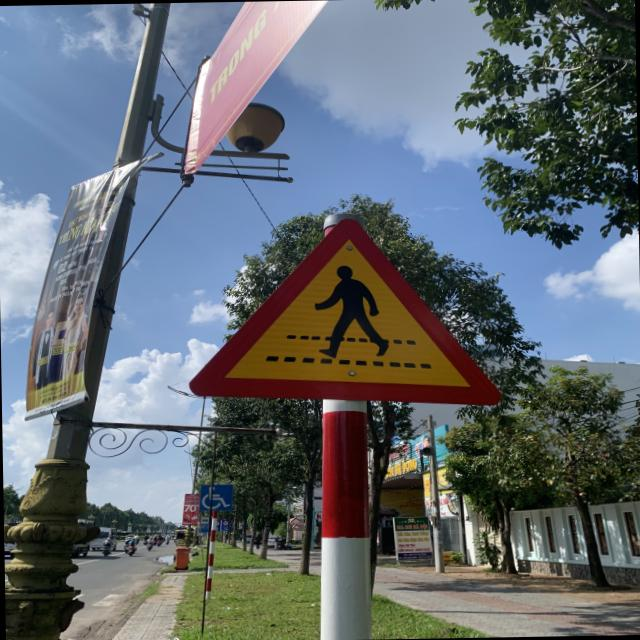Duong_Nguoi_Di_Bo_Sang_Ngang: (184, 219, 497, 414)
